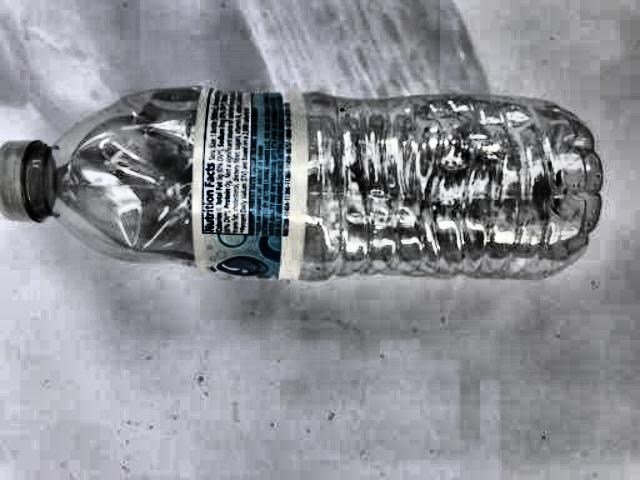Bottles: (0, 76, 624, 289)
